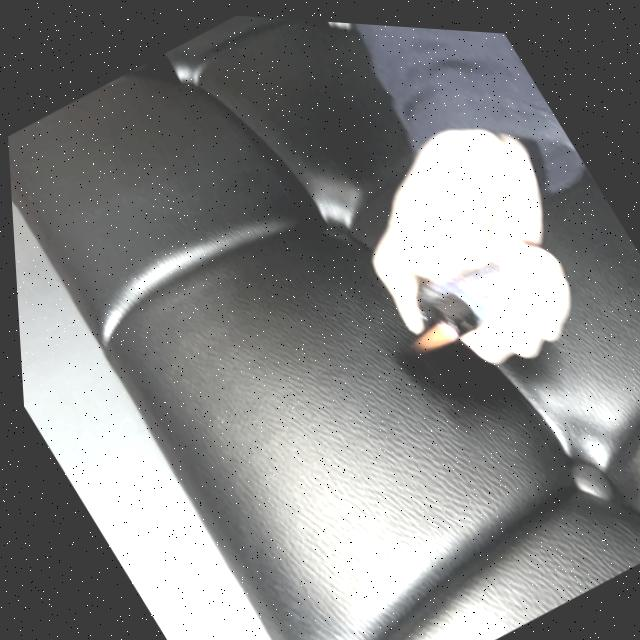Fire: (403, 309, 457, 356)
